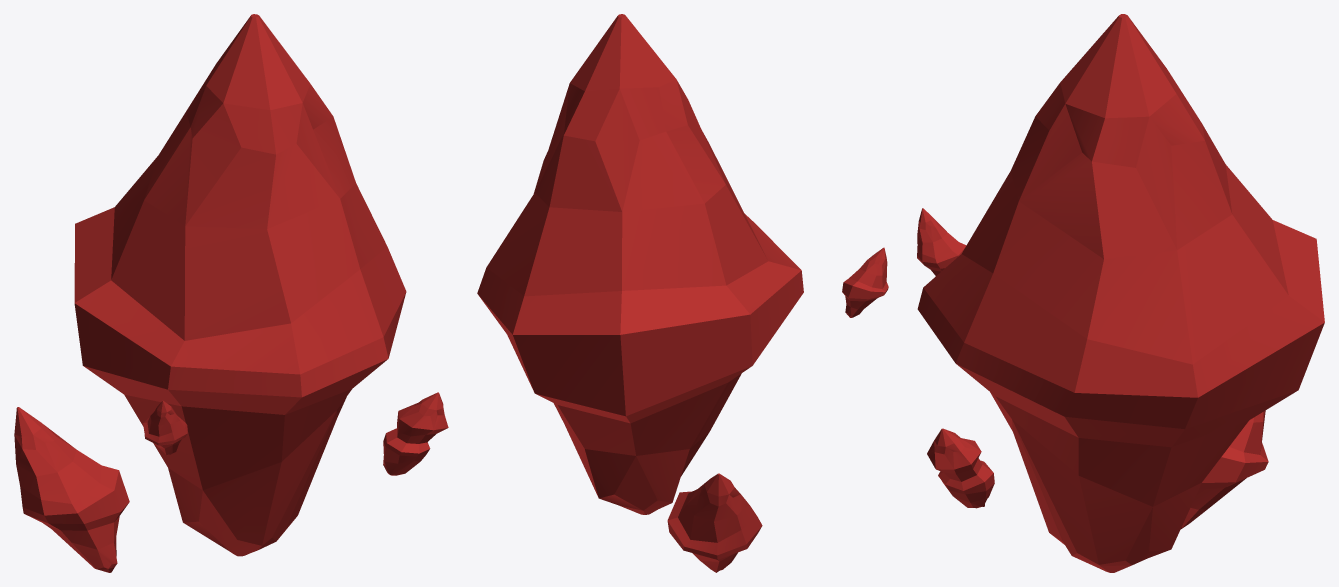
File: 1linemate.glb
The picture shows the model from 3 angles, left to right: view 1: azimuth 30°, elevation 25°; view 2: azimuth 150°, elevation 25°; view 3: azimuth 270°, elevation 25°; orthographic projection. The views are drawn at different scales.
Visible parts, largest first — view 1: Object_14.005; view 2: Object_14.005; view 3: Object_14.005.
Boxes of the visible parts, bbox=[...] form: Object_14.005: bbox=[14, 14, 448, 572]; Object_14.005: bbox=[477, 14, 888, 572]; Object_14.005: bbox=[917, 14, 1324, 572].
Size of the model in its own units: 0.6258 by 1 by 0.6385.
